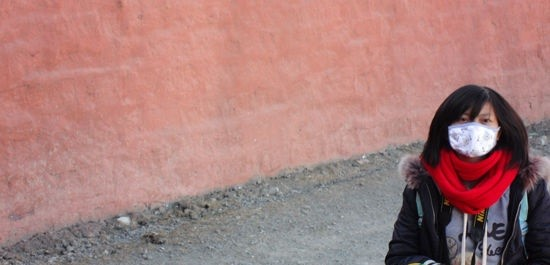face_mask: (449, 102, 496, 156)
